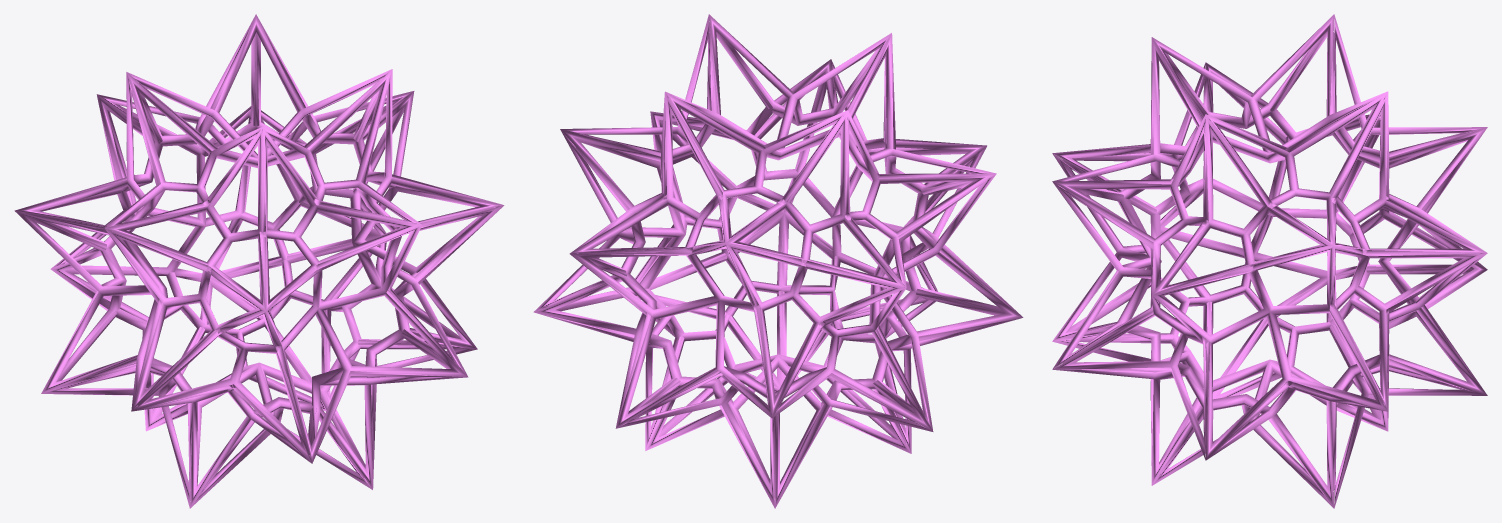
Rendered from SnubCubeK1.glb.
3 renders of one model, left to right at view 1: azimuth 30°, elevation 25°; view 2: azimuth 150°, elevation 25°; view 3: azimuth 270°, elevation 25°, orthographic.
Parts seen in each view (by area): view 1: Snub_Cube; view 2: Snub_Cube; view 3: Snub_Cube.
Part boxes in pixels (left/top/right/bottom): Snub_Cube: left=14, top=14, right=504, bottom=508; Snub_Cube: left=533, top=14, right=1023, bottom=508; Snub_Cube: left=1052, top=14, right=1487, bottom=508.
Bounding box in the file's own units: 2.34 × 2.34 × 2.34.
